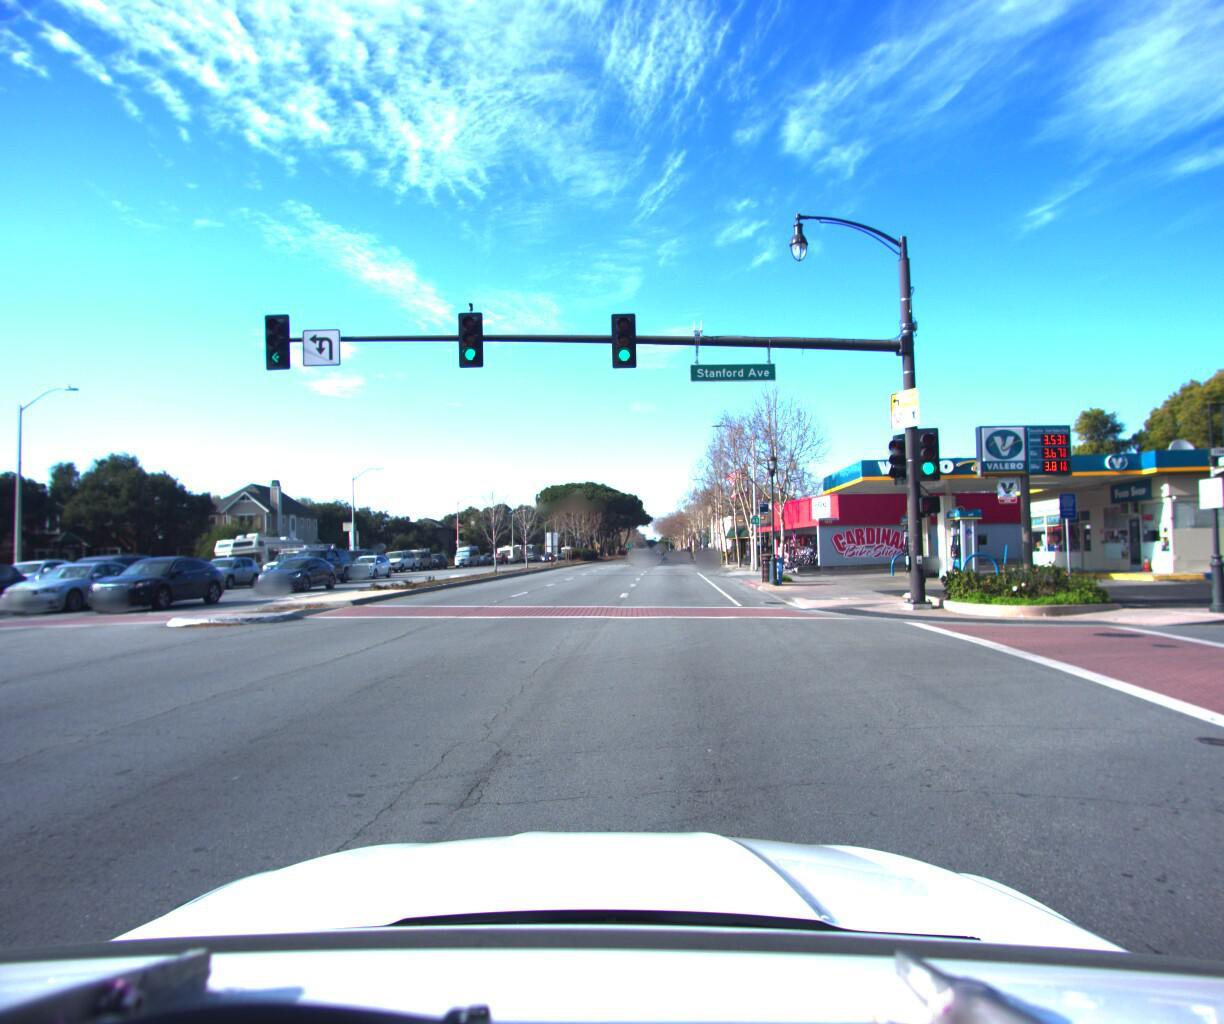bicycle: (797, 538, 823, 558), (771, 549, 798, 567)
car: (76, 551, 236, 621), (0, 557, 166, 617), (36, 550, 173, 605), (0, 555, 99, 609), (245, 552, 348, 594), (248, 538, 343, 582), (271, 542, 362, 585), (134, 553, 225, 594), (184, 551, 268, 590), (0, 562, 50, 622), (338, 551, 399, 580), (376, 544, 420, 569), (396, 542, 435, 568), (696, 540, 719, 561), (627, 541, 651, 559)
other_vehicle: (207, 527, 311, 586)
